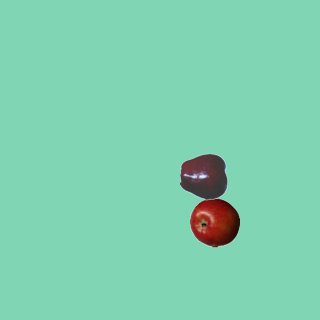Apple Braeburn: (189, 197, 239, 247)
Apple Red Delicious: (179, 151, 229, 201)
